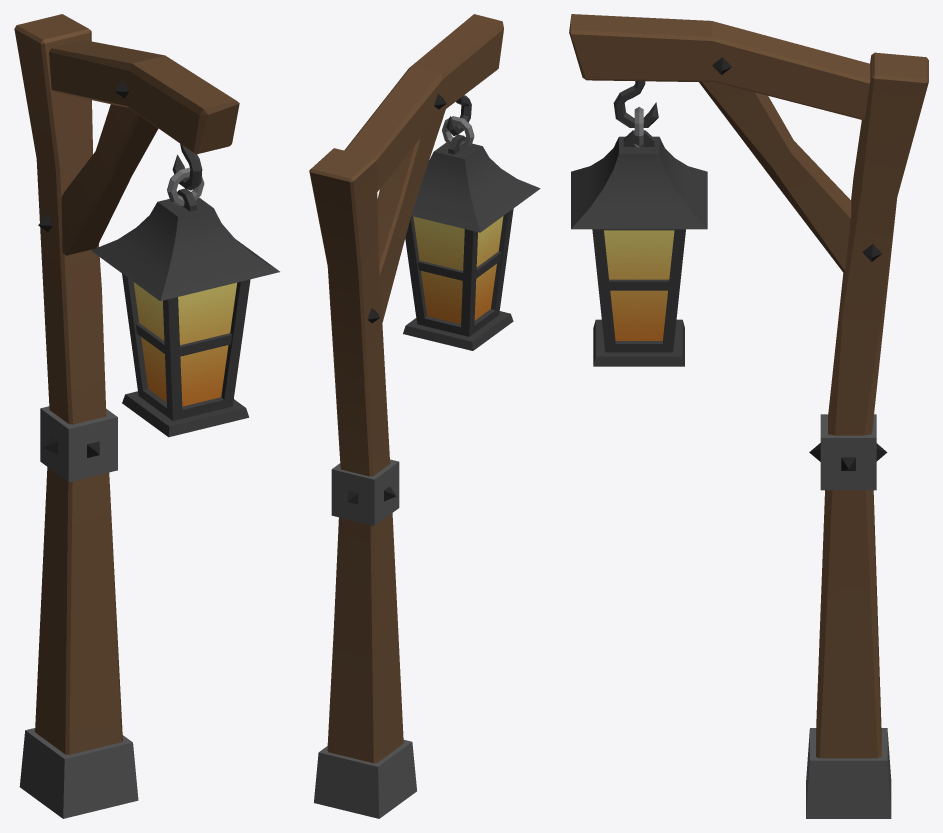
Rendered from lantern.glb.
The picture shows the model from 3 angles, left to right: view 1: azimuth 30°, elevation 25°; view 2: azimuth 150°, elevation 25°; view 3: azimuth 270°, elevation 25°; orthographic projection. The views are drawn at different scales.
Parts seen in each view (by area): view 1: Frame_3, Lantern_1, Hook_0, Link_2; view 2: Frame_3, Lantern_1, Link_2, Hook_0; view 3: Frame_3, Lantern_1, Hook_0.
Boxes of the visible parts, x1=… form: Frame_3: x1=14, y1=14, x2=239, y2=818; Lantern_1: x1=91, y1=188, x2=279, y2=437; Hook_0: x1=172, y1=143, x2=202, y2=190; Link_2: x1=167, y1=167, x2=204, y2=206; Frame_3: x1=309, y1=14, x2=503, y2=818; Lantern_1: x1=403, y1=134, x2=540, y2=350; Link_2: x1=442, y1=116, x2=474, y2=150; Hook_0: x1=446, y1=95, x2=471, y2=135; Frame_3: x1=569, y1=14, x2=928, y2=818; Lantern_1: x1=571, y1=130, x2=707, y2=366; Hook_0: x1=613, y1=81, x2=658, y2=127.
Bounding box in the file's own units: 2.86 × 17.99 × 7.53.
Materials: 1 (1 with a texture image).
